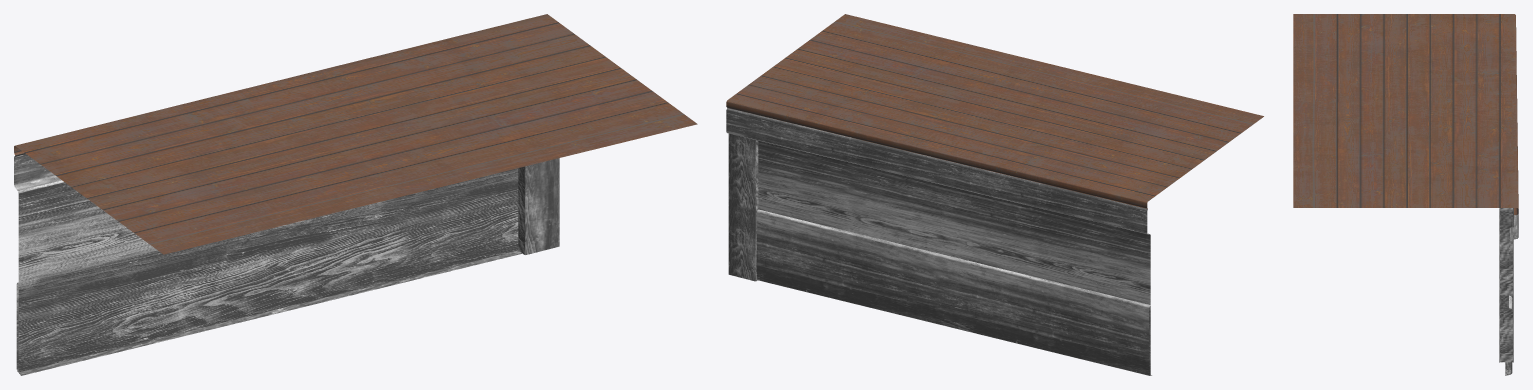
The model's file is SM_Base_Top_B2.fbx.
3 renders of one model, left to right at view 1: azimuth 30°, elevation 25°; view 2: azimuth 150°, elevation 25°; view 3: azimuth 270°, elevation 25°, orthographic. The views are drawn at different scales.
Visible parts, largest first — view 1: SM_Base_Top_B2; view 2: SM_Base_Top_B2; view 3: SM_Base_Top_B2.
Part boxes in pixels (x1=…): SM_Base_Top_B2: x1=14, y1=14, x2=697, y2=375; SM_Base_Top_B2: x1=726, y1=14, x2=1263, y2=375; SM_Base_Top_B2: x1=1293, y1=14, x2=1518, y2=375.
Size of the model in its own units: 294 by 144 by 119.
3 materials, 3 textured.
